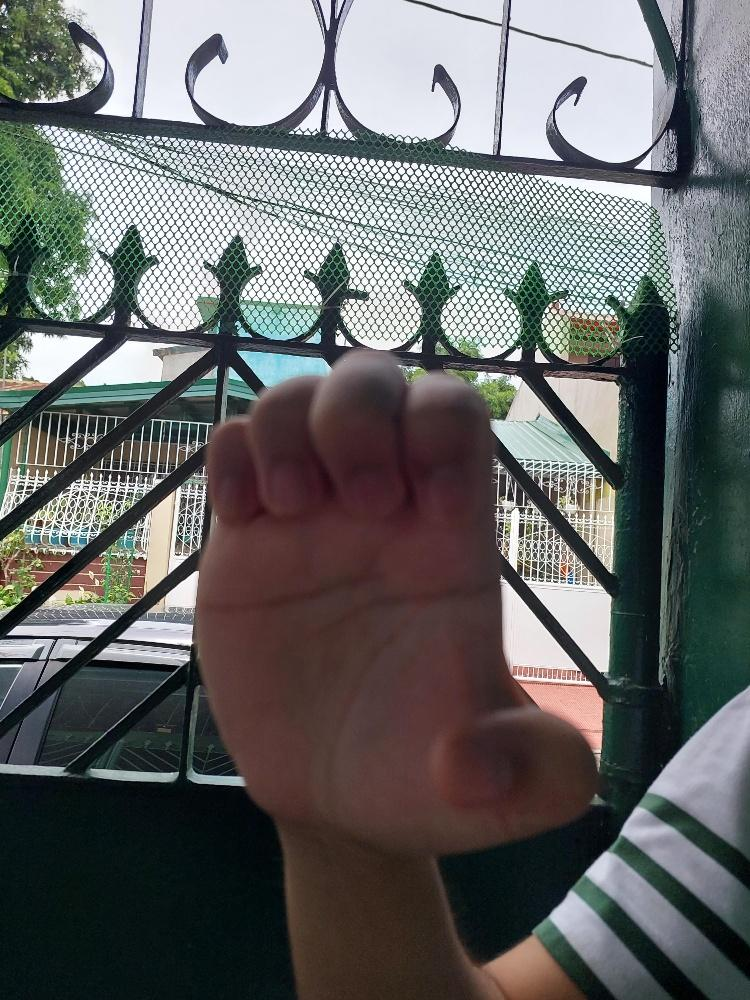e: (189, 344, 601, 866)
